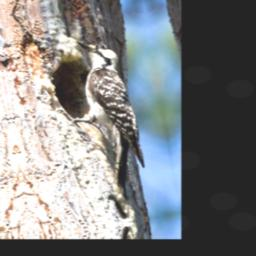Woodpecker: (58, 29, 157, 210)
